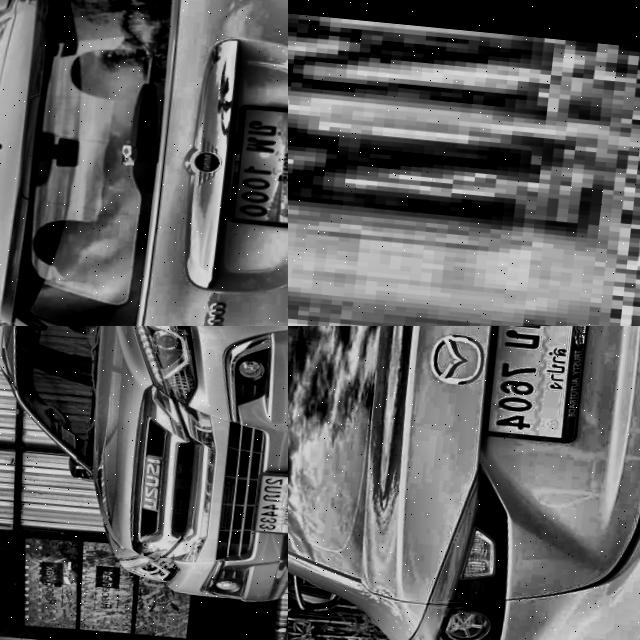license-plate: (288, 0, 640, 326), (485, 326, 598, 437), (230, 96, 288, 224), (256, 458, 288, 528)
